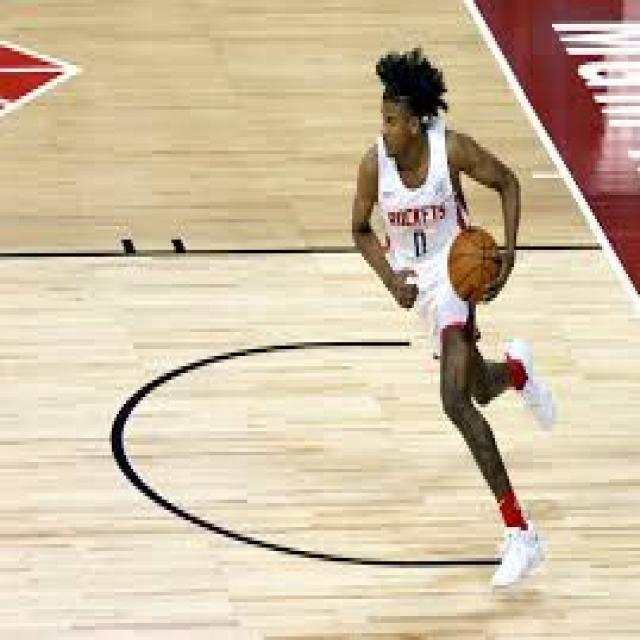rim: (450, 229, 500, 298)
